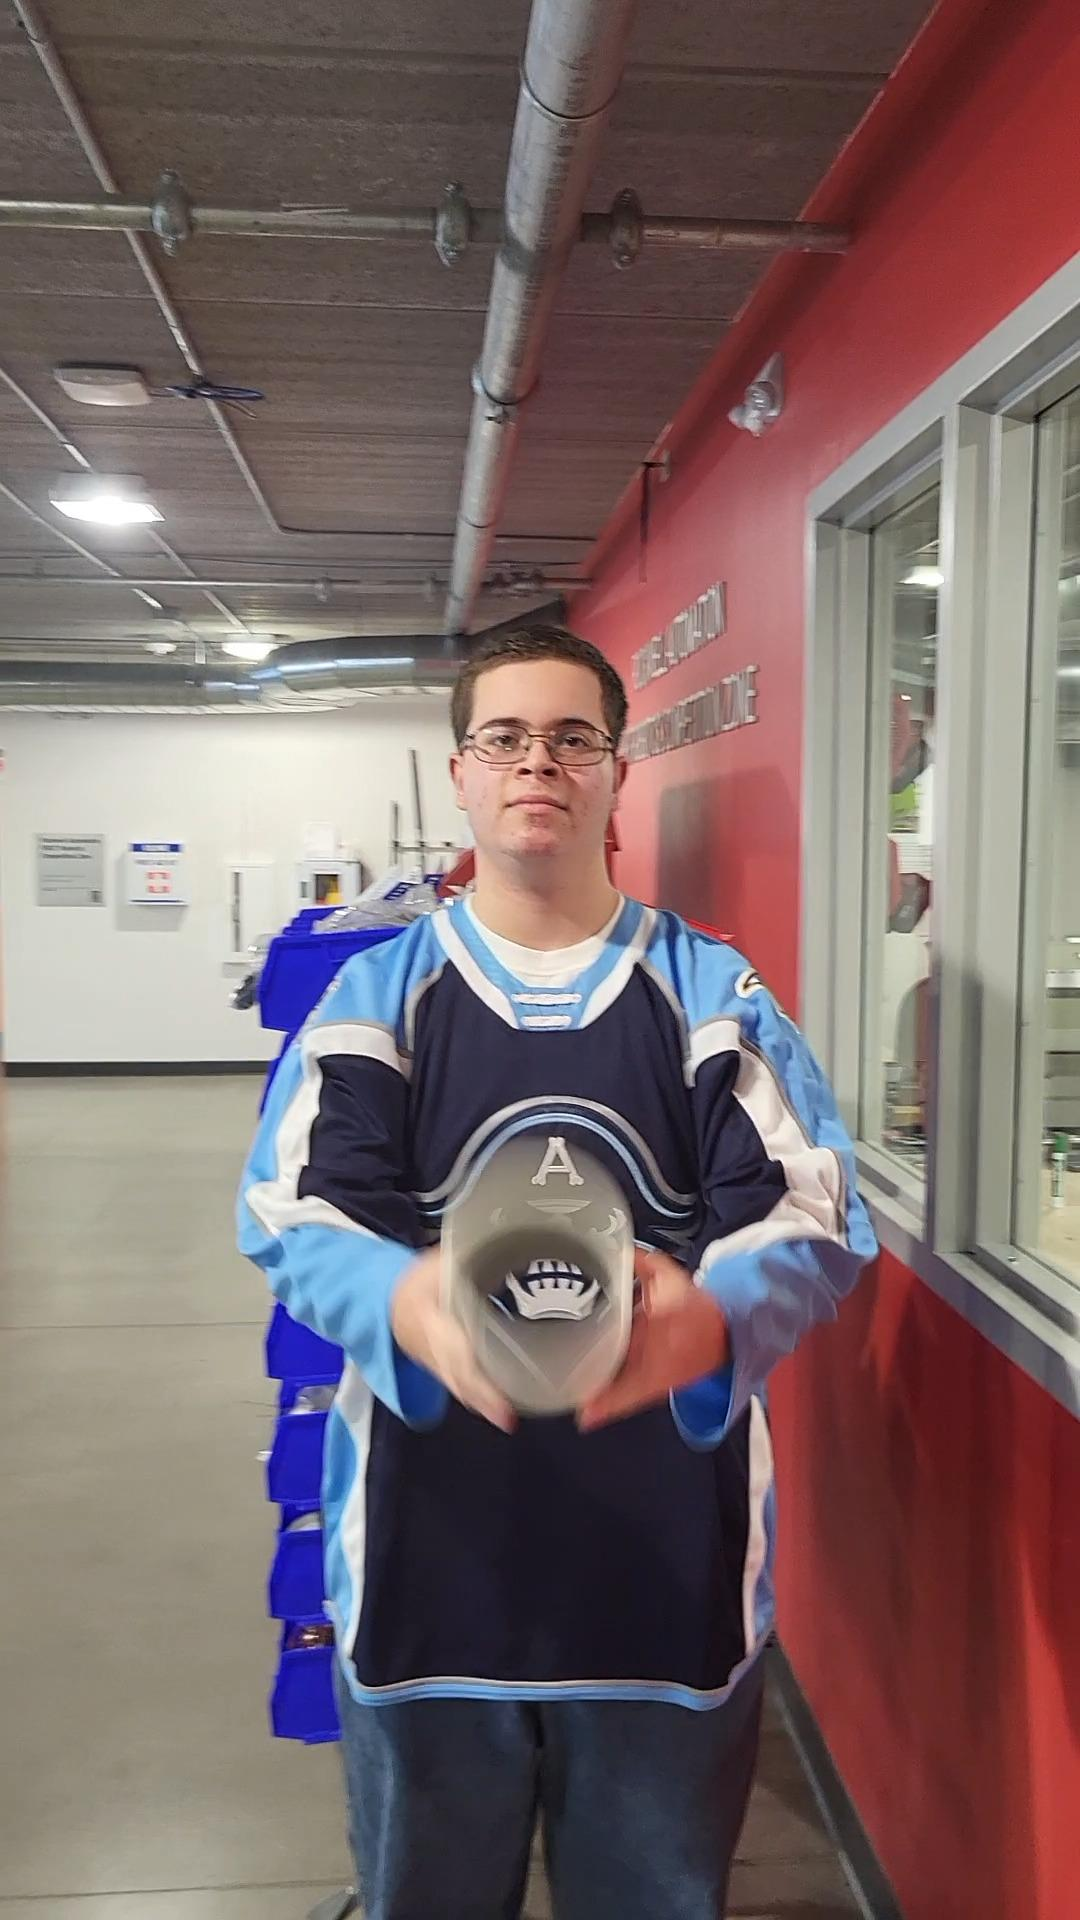coral: (436, 1145, 644, 1414)
